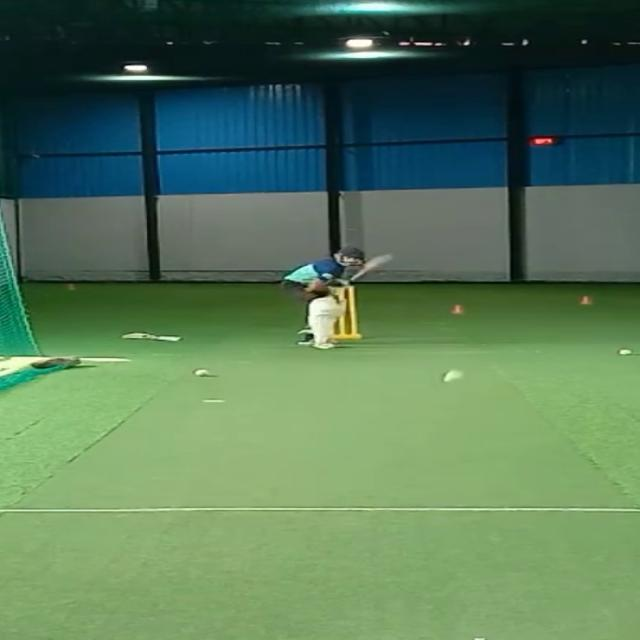ball: (440, 367, 474, 385), (187, 363, 216, 379), (613, 343, 636, 361)
stump: (334, 284, 363, 341)
